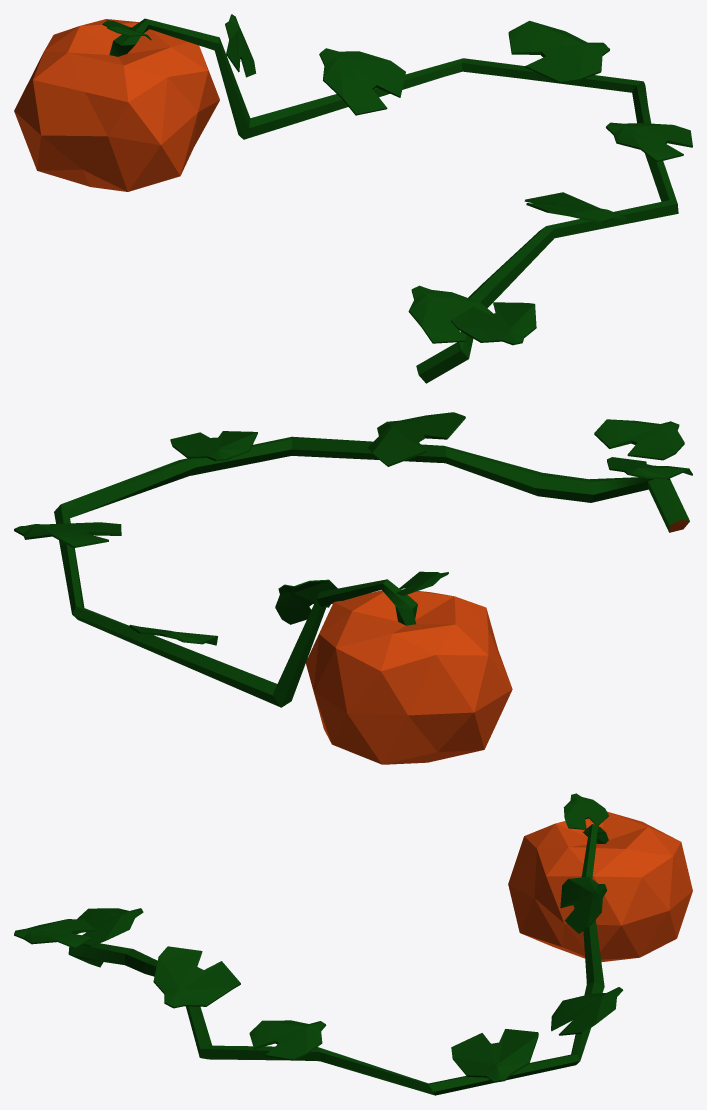
Rendered from pumpkinStage2.obj.
The picture shows the model from 3 angles, top to bottom: view 1: azimuth 30°, elevation 25°; view 2: azimuth 150°, elevation 25°; view 3: azimuth 270°, elevation 25°; orthographic projection. The views are drawn at different scales.
Visible parts, largest first — view 1: Icosphere.002; view 2: Icosphere.002; view 3: Icosphere.002.
Part boxes in pixels (x1,y1,x2,y2): Icosphere.002: (14, 14, 692, 383); Icosphere.002: (14, 412, 692, 764); Icosphere.002: (14, 793, 692, 1095).
Size of the model in its own units: 1.11 by 0.3429 by 1.4.
